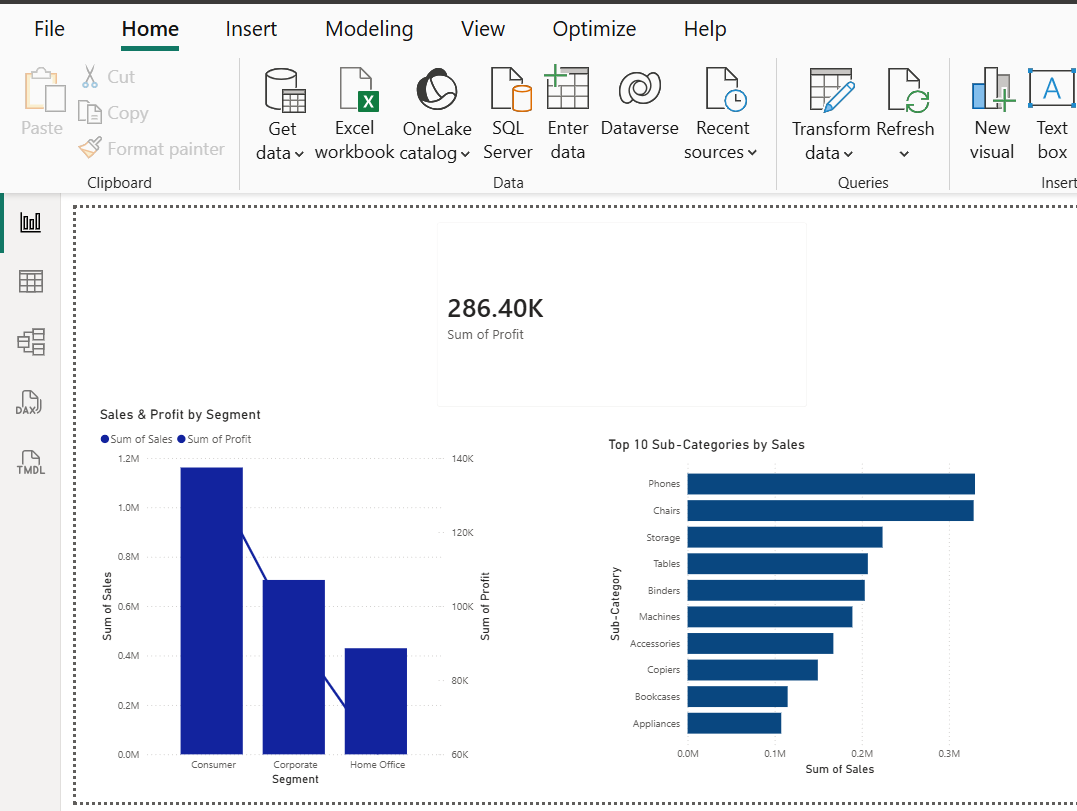

Layout of this report page (visuals, bound fields, positions):
{"tool":"powerbi","page":{"name":"Page 2","canvas":[1280,720],"ordinal":1},"visuals":[{"type":"barChart","title":"Top 10 Sub-Categories by Sales","fields":{"Category":["Sample - Superstore.Sub-Category"],"Y":["Sum(Sample - Superstore.Sales)"]},"box":[640.4,277.2,489.5,415.8],"z":0},{"type":"lineStackedColumnComboChart","title":"Sales & Profit by Segment","fields":{"Category":["Sample - Superstore.Segment"],"Y":["Sum(Sample - Superstore.Sales)"],"Y2":["Sum(Sample - Superstore.Profit)"]},"box":[22.8,240.4,484.2,464.9],"z":1000},{"type":"cardVisual","fields":{"Data":["Sum(Sample - Superstore.Profit)"]},"box":[419.5,0,483.8,183.3],"z":2000}]}

Visuals, with their boxes on the page's 1280x720 design canvas (x1, y1, x2, y2). These are canvas units, not pixel positions in the 1077x811 screenshot, which may show the page scaled, cropped or inside an application window:
"Top 10 Sub-Categories by Sales" barChart: bbox=[640, 277, 1130, 693]
"Sales & Profit by Segment" lineStackedColumnComboChart: bbox=[23, 240, 507, 705]
cardVisual - Sum(Sample - Superstore.Profit): bbox=[420, 0, 903, 183]
